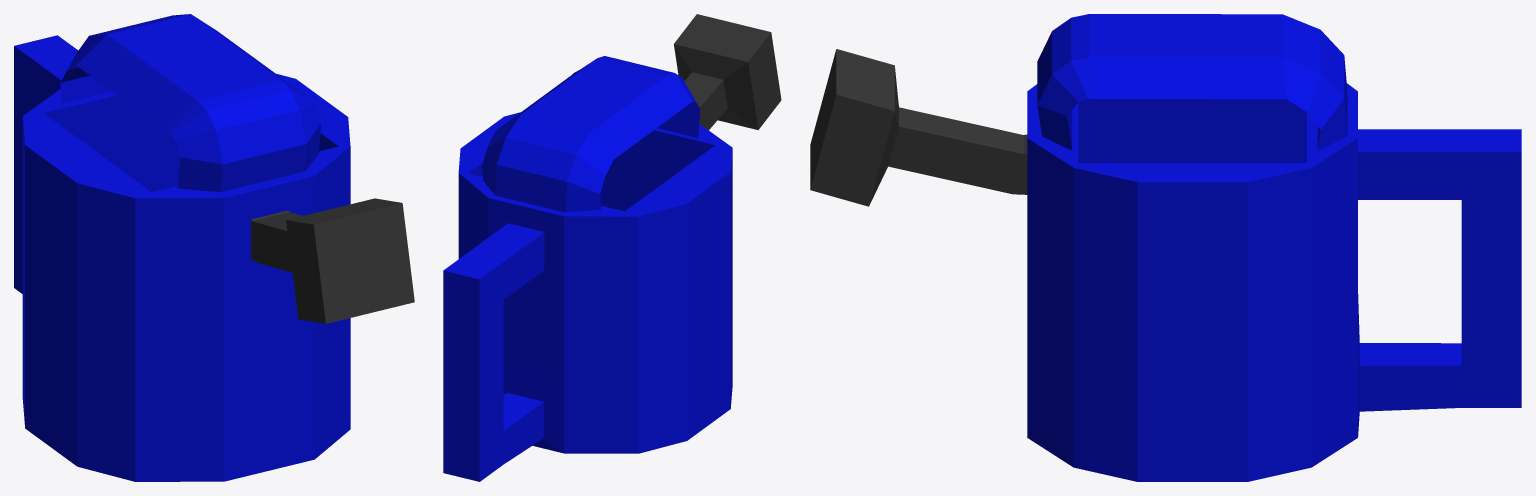
The model's file is wateringCan.fbx.
The picture shows the model from 3 angles, left to right: view 1: azimuth 30°, elevation 25°; view 2: azimuth 150°, elevation 25°; view 3: azimuth 270°, elevation 25°; orthographic projection. The views are drawn at different scales.
Parts seen in each view (by area): view 1: Cube; view 2: Cube; view 3: Cube.
Part boxes in pixels (box(x1,y1,x2,y2)): Cube: box(14, 14, 414, 481); Cube: box(443, 14, 781, 481); Cube: box(810, 14, 1521, 481).
Size of the model in its own units: 200 by 253 by 430.
